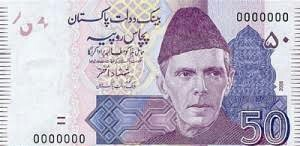50 rupee: (3, 4, 299, 143)
